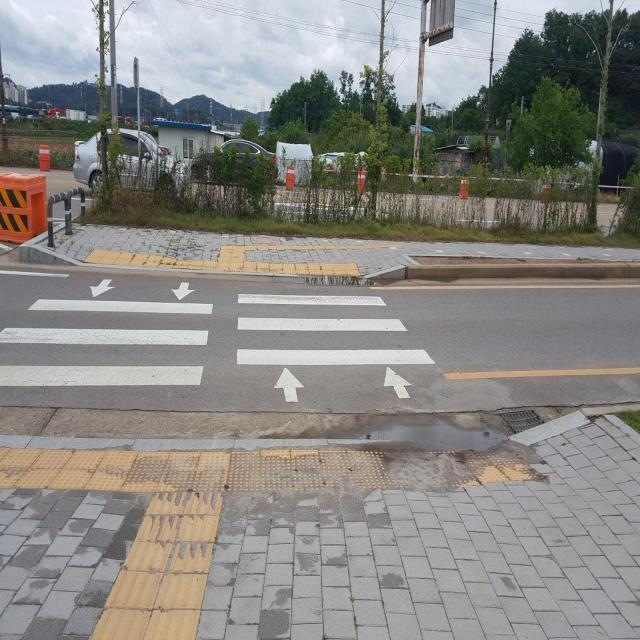횡단보도: (0, 276, 438, 406)
